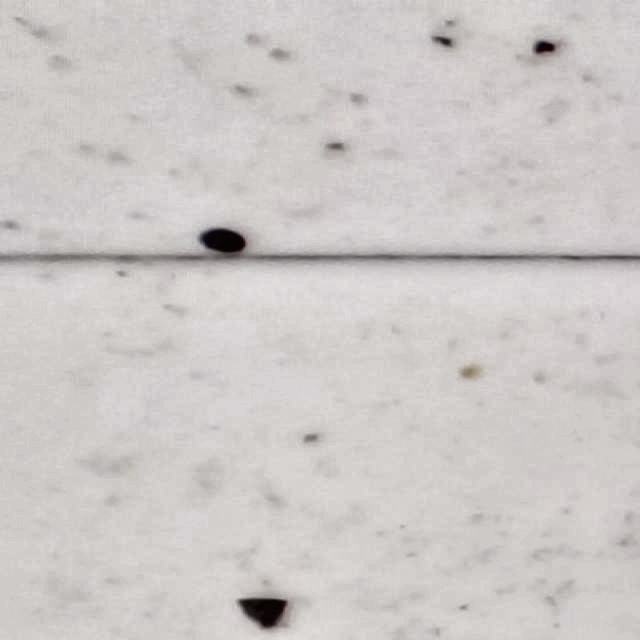varroa: (236, 599, 289, 632), (197, 228, 245, 259)
